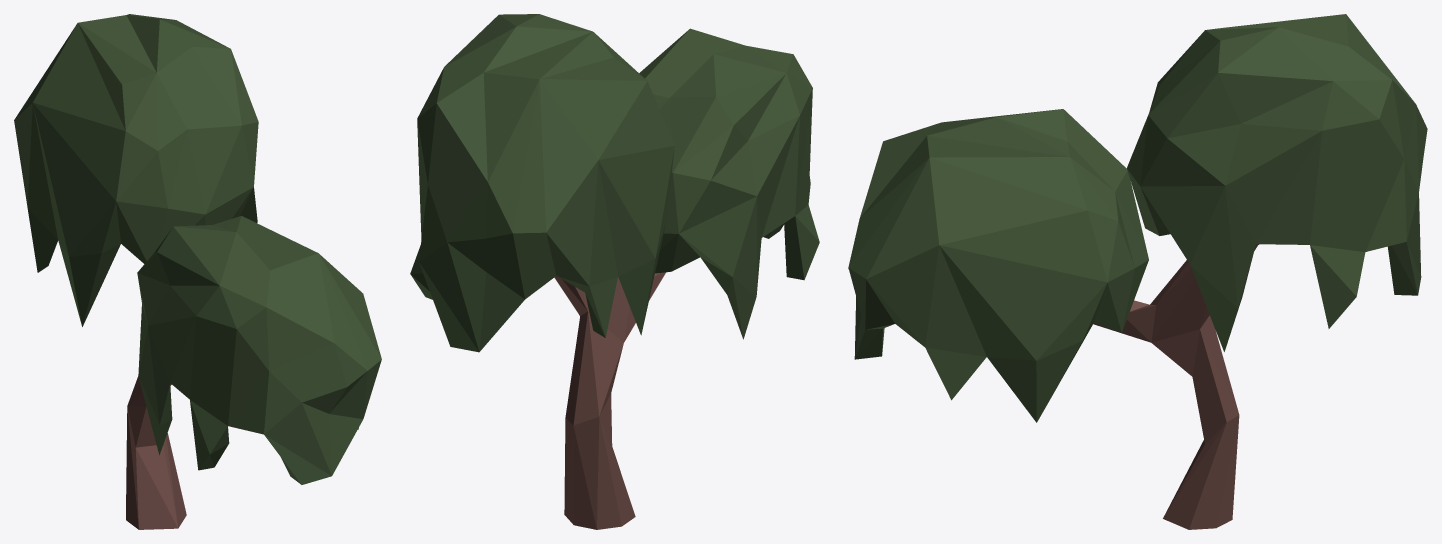
The model's file is Willow_5.lod2.glb.
3 renders of one model, left to right at view 1: azimuth 30°, elevation 25°; view 2: azimuth 150°, elevation 25°; view 3: azimuth 270°, elevation 25°, orthographic. The views are drawn at different scales.
Visible parts, largest first — view 1: Willow_5; view 2: Willow_5; view 3: Willow_5.
Part boxes in pixels (<box>): Willow_5: <box>14,14,381,529</box>; Willow_5: <box>410,14,819,529</box>; Willow_5: <box>848,14,1427,529</box>.
Size of the model in its own units: 0.9784 by 2.41 by 2.48.
